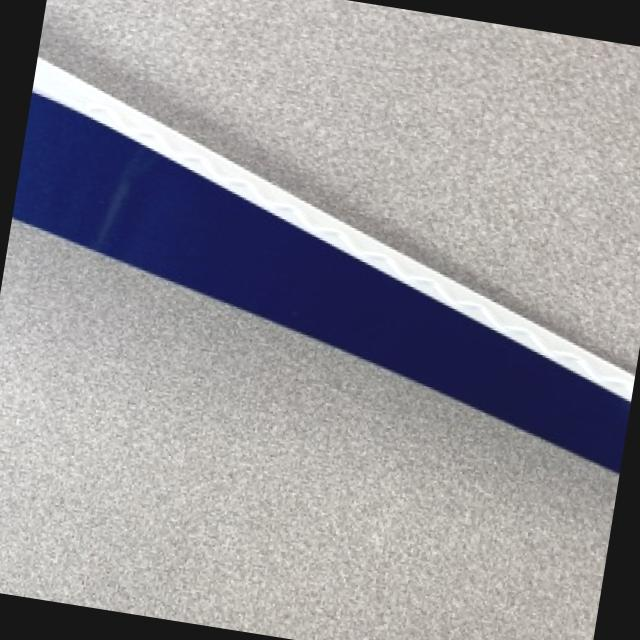healthy: (19, 55, 635, 471), (19, 91, 630, 463)
